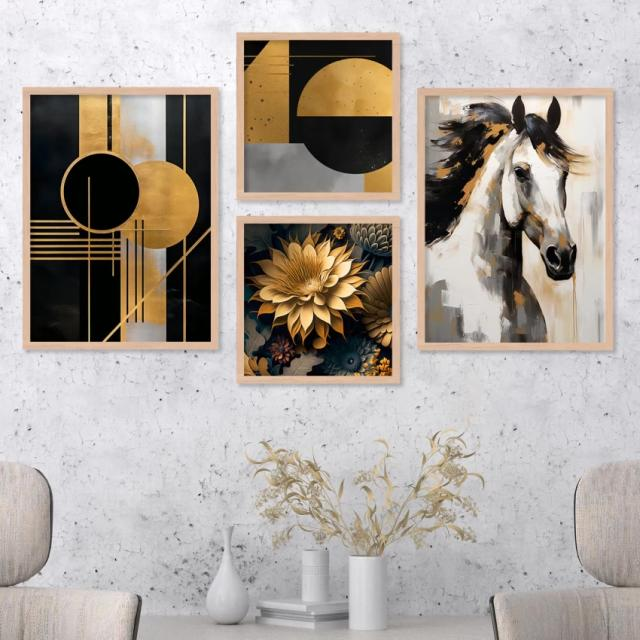painting: (24, 86, 219, 350), (418, 87, 613, 351), (237, 30, 402, 199), (237, 215, 402, 384)
